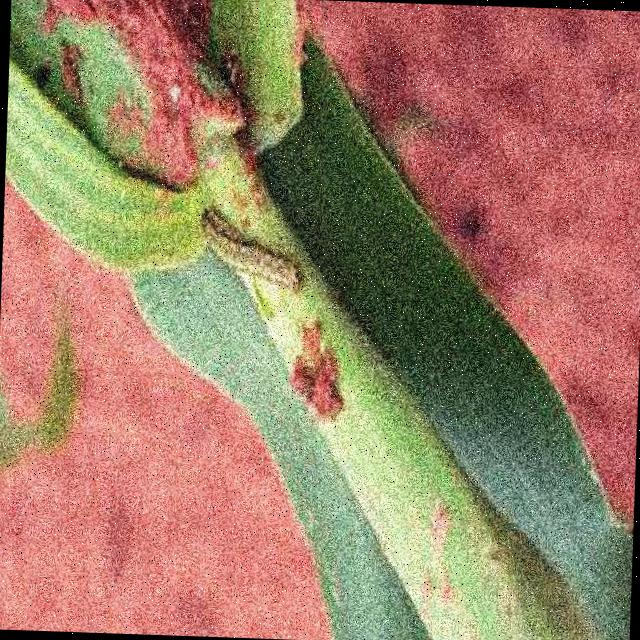worm: (196, 208, 313, 312)
